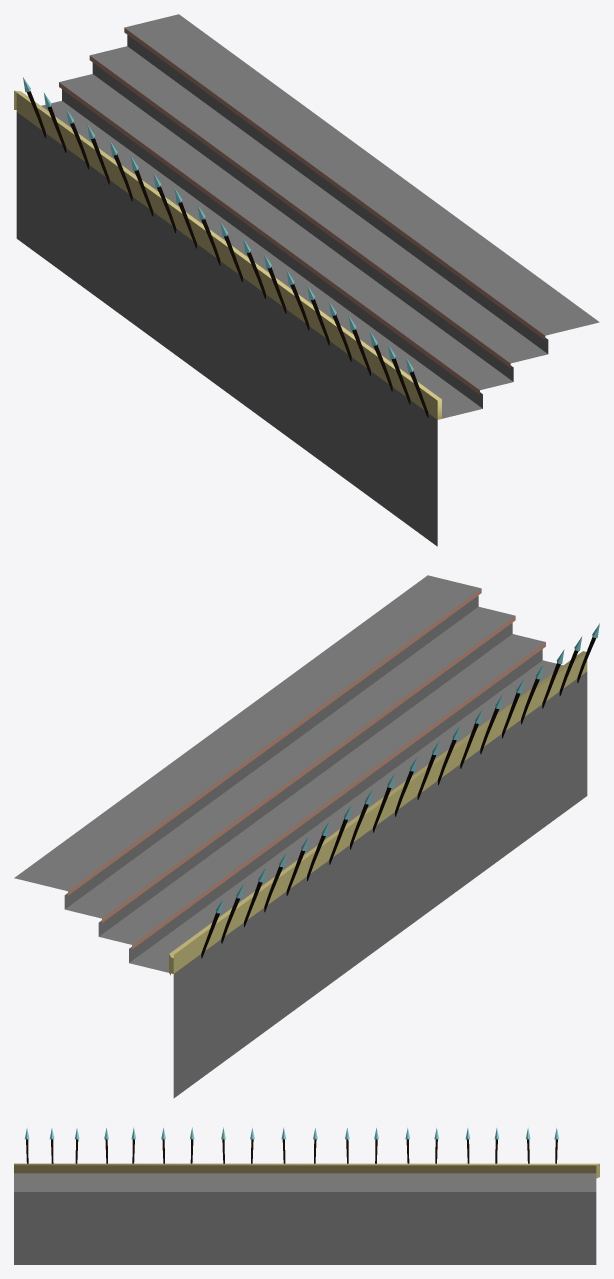
The model's file is Трибуна.FBX.
The picture shows the model from 3 angles, top to bottom: view 1: azimuth 30°, elevation 25°; view 2: azimuth 150°, elevation 25°; view 3: azimuth 270°, elevation 25°; orthographic projection. The views are drawn at different scales.
Visible parts, largest first — view 1: Plane005; view 2: Plane005; view 3: Plane005.
Boxes of the visible parts, x1=… form: Plane005: x1=14, y1=14, x2=599, y2=546; Plane005: x1=14, y1=575, x2=599, y2=1098; Plane005: x1=14, y1=1127, x2=599, y2=1264.
Size of the model in its own units: 330 by 322 by 1312.
